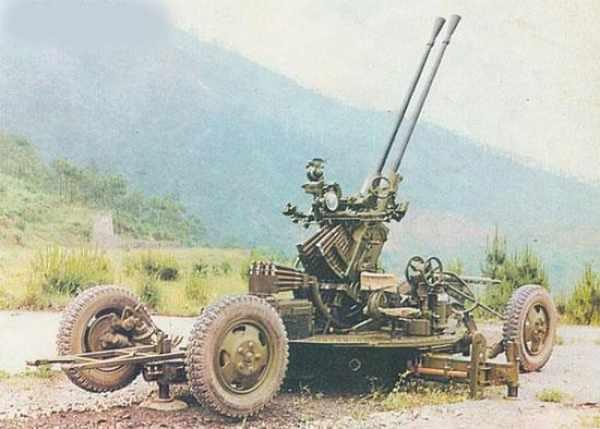MIL_SPG: (35, 15, 557, 417)
